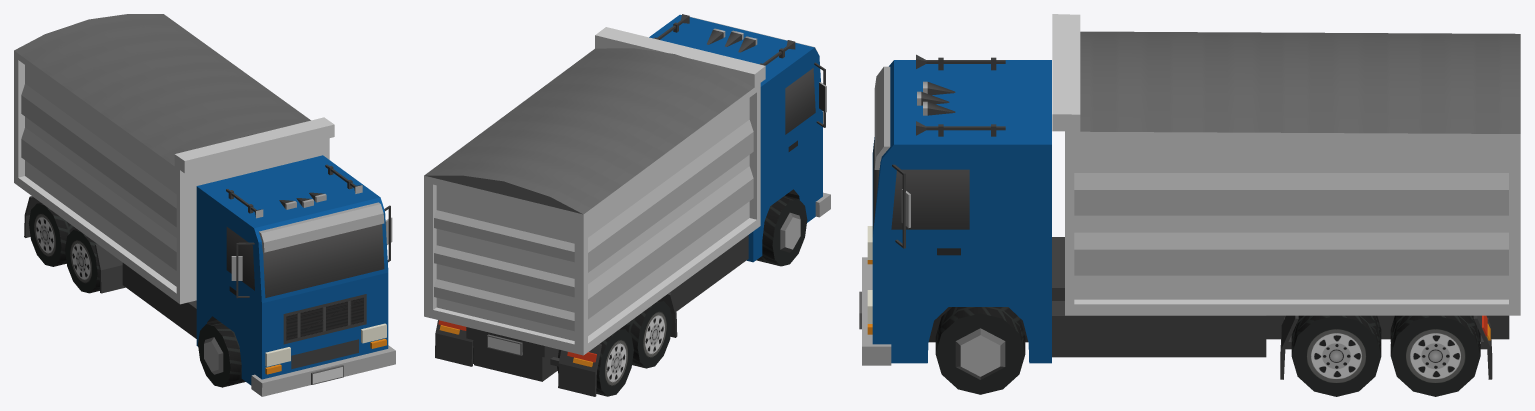
The model's file is TruckEuropeanB.fbx.
3 views of the same model, side by side, from view 1: azimuth 30°, elevation 25°; view 2: azimuth 150°, elevation 25°; view 3: azimuth 270°, elevation 25° (orthographic). The views are drawn at different scales.
Parts seen in each view (by area): view 1: TruckEuropeanB, TireFR, TireBRY, TireBRX; view 2: TruckEuropeanB, TireFR, TireBRX, TireBRY; view 3: TruckEuropeanB, TireFL, TireBLY, TireBLX.
Boxes of the visible parts, bbox=[...] form: TruckEuropeanB: bbox=[14, 14, 395, 396]; TireFR: bbox=[198, 321, 245, 387]; TireBRY: bbox=[28, 202, 76, 266]; TireBRX: bbox=[65, 229, 99, 293]; TruckEuropeanB: bbox=[424, 14, 830, 396]; TireFR: bbox=[756, 195, 807, 266]; TireBRX: bbox=[621, 300, 672, 368]; TireBRY: bbox=[557, 328, 633, 396]; TruckEuropeanB: bbox=[859, 14, 1520, 379]; TireFL: bbox=[935, 307, 1025, 394]; TireBLY: bbox=[1390, 315, 1480, 396]; TireBLX: bbox=[1291, 315, 1381, 396].
Size of the model in its own units: 241 by 296 by 627.
